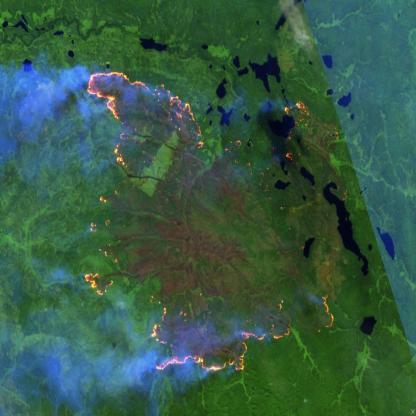fire: (83, 64, 333, 380)
